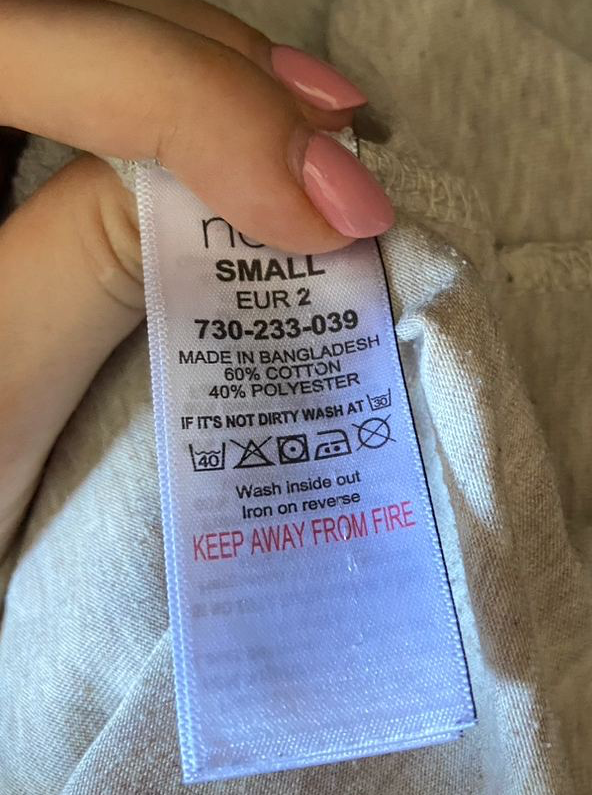do_not_bleach: (231, 434, 274, 470)
do_not_dry_clean: (349, 412, 398, 452), (365, 386, 392, 412)
ironing_at_med_temp: (313, 426, 353, 462)
tumble_drying_low_temps: (276, 432, 313, 465)
wash_at_or_below_40: (187, 439, 227, 472)
